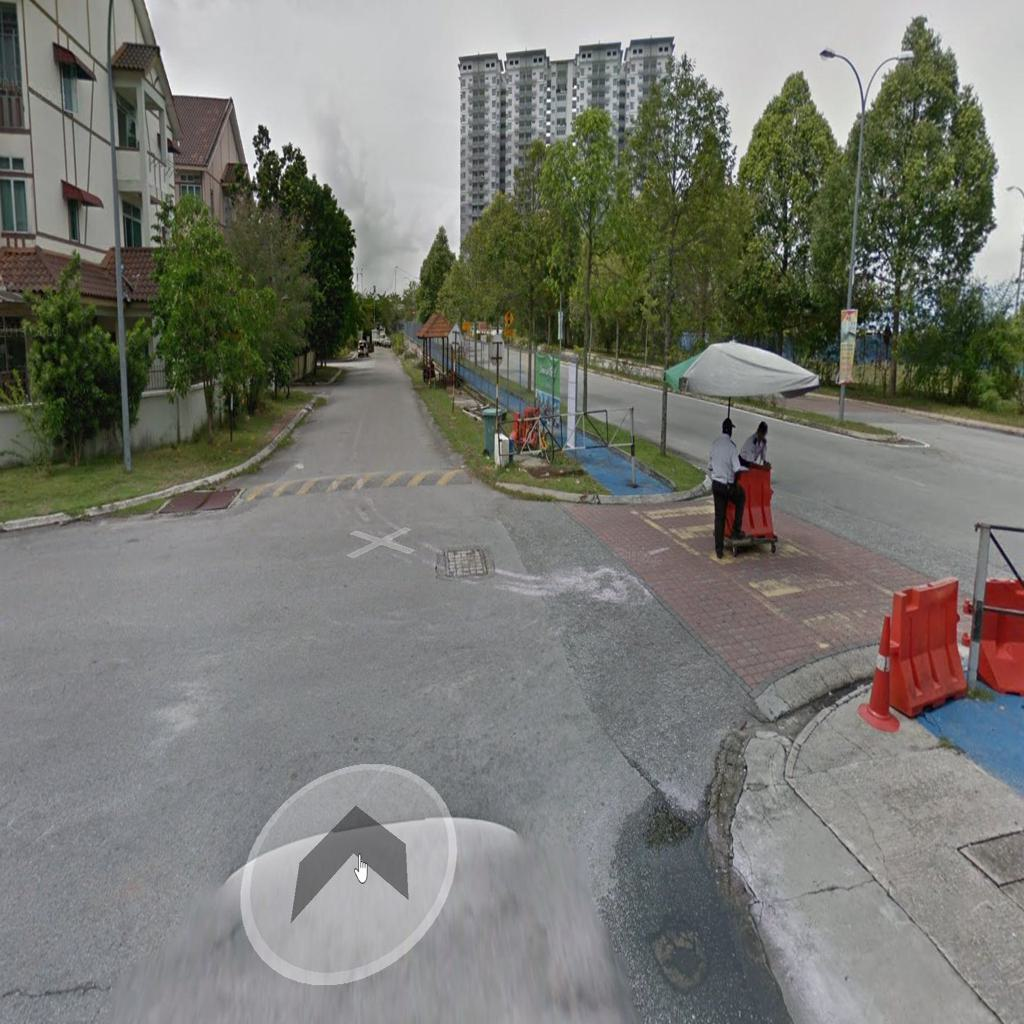Junction: (464, 461, 839, 782)
